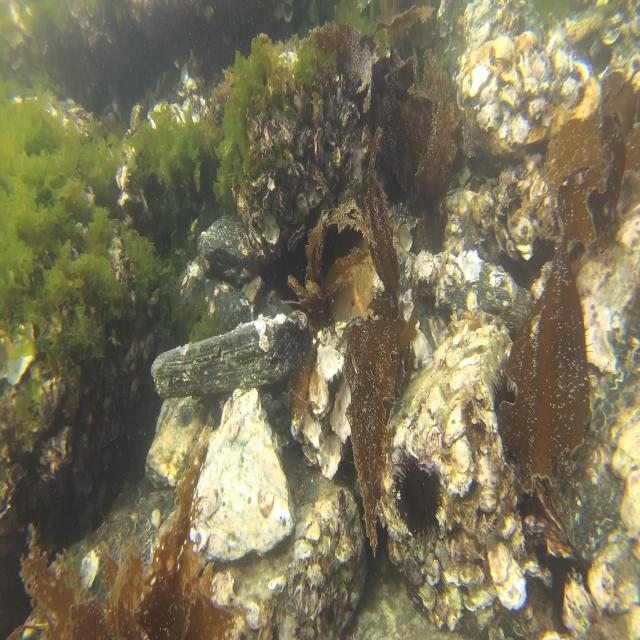echinus: (389, 446, 445, 544), (491, 375, 519, 436)
